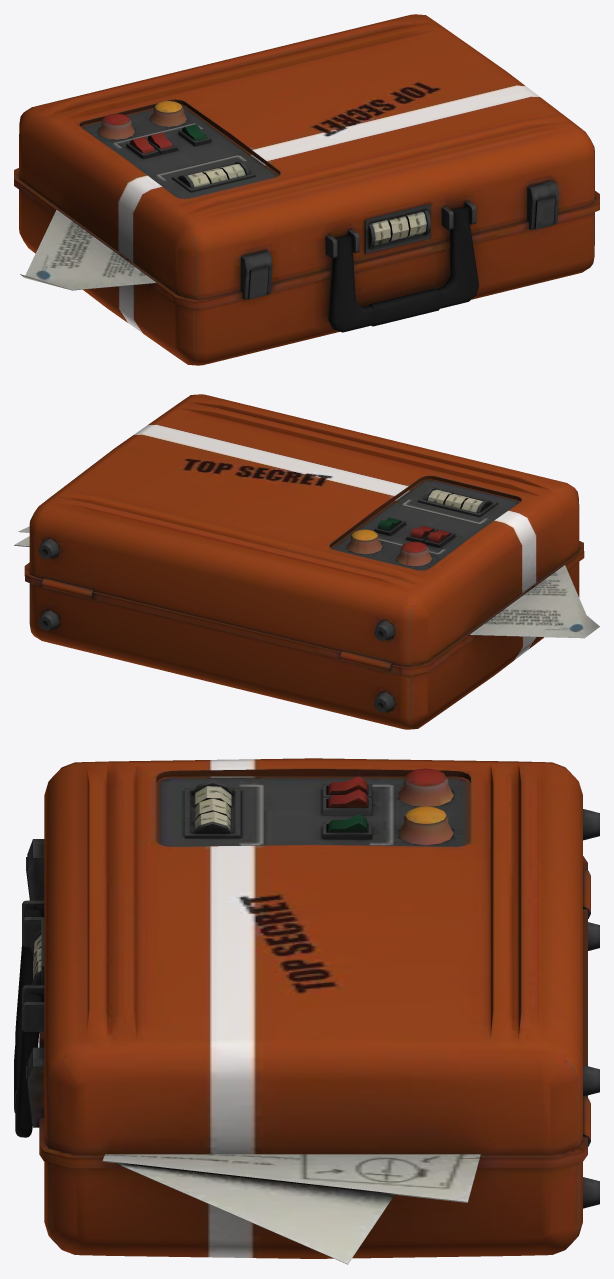
The picture shows the model from 3 angles, top to bottom: view 1: azimuth 30°, elevation 25°; view 2: azimuth 150°, elevation 25°; view 3: azimuth 270°, elevation 25°; orthographic projection. The views are drawn at different scales.
Parts seen in each view (by area): view 1: body0_model0_lod0_mesh0; view 2: body0_model0_lod0_mesh0; view 3: body0_model0_lod0_mesh0.
Boxes of the visible parts, <box> form: body0_model0_lod0_mesh0: <box>14,14,599,365</box>; body0_model0_lod0_mesh0: <box>14,394,599,729</box>; body0_model0_lod0_mesh0: <box>14,758,599,1264</box>.
Size of the model in its own units: 45.07 by 11.6 by 26.1.
Materials: 1 (1 with a texture image).
